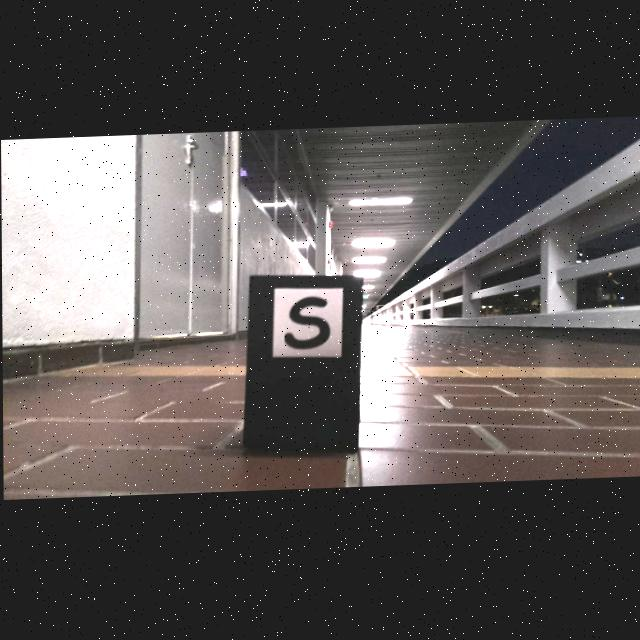S: (285, 297, 331, 352)
